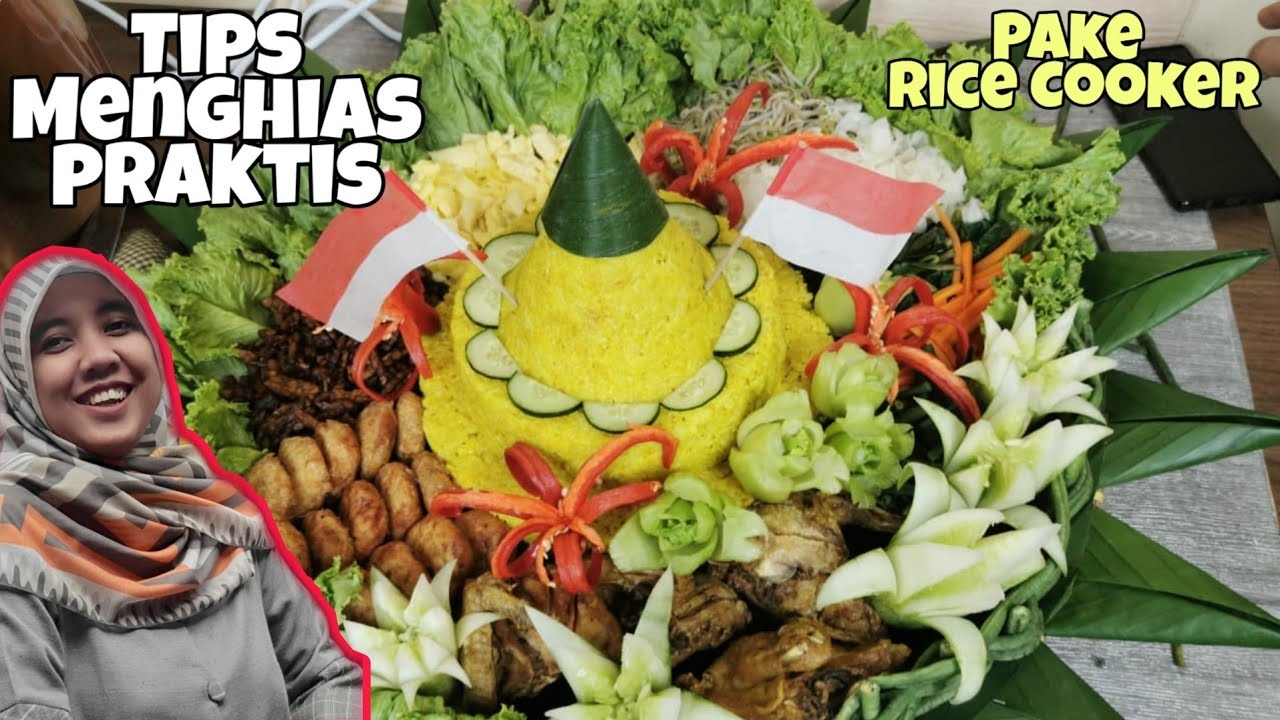tumpeng: (459, 85, 773, 406)
